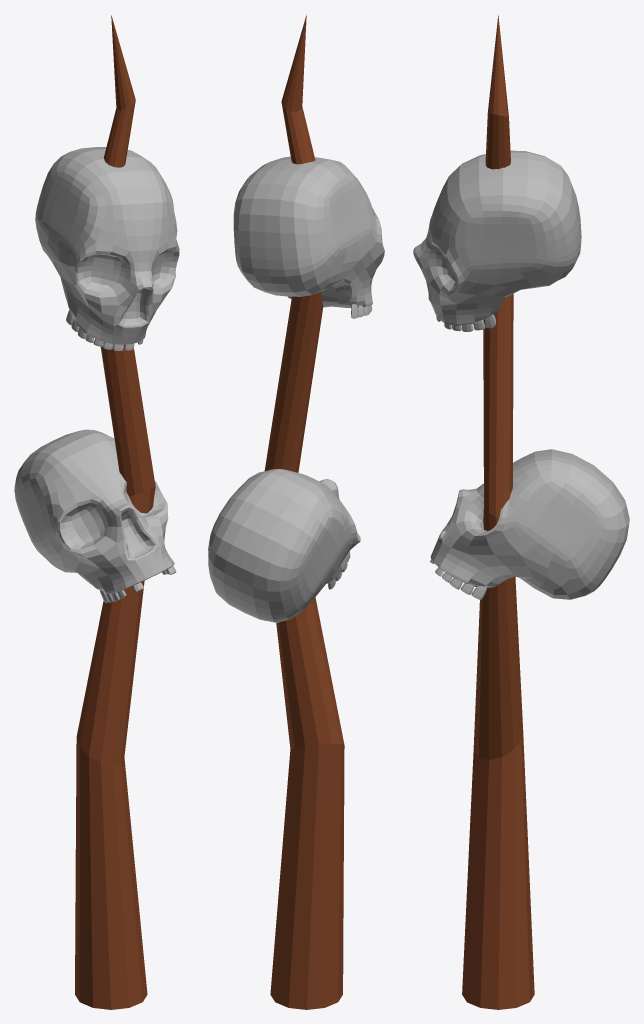
File: Skull on stick 2.fbx
3 views of the same model, side by side, from view 1: azimuth 30°, elevation 25°; view 2: azimuth 150°, elevation 25°; view 3: azimuth 270°, elevation 25° (orthographic).
Visible parts, largest first — view 1: Cylinder; view 2: Cylinder; view 3: Cylinder.
Boxes of the visible parts, x1,y1,x2,y2 form: Cylinder: (14, 15, 179, 1009); Cylinder: (208, 15, 384, 1009); Cylinder: (413, 15, 629, 1009).
Size of the model in its own units: 221 by 1863 by 373.
